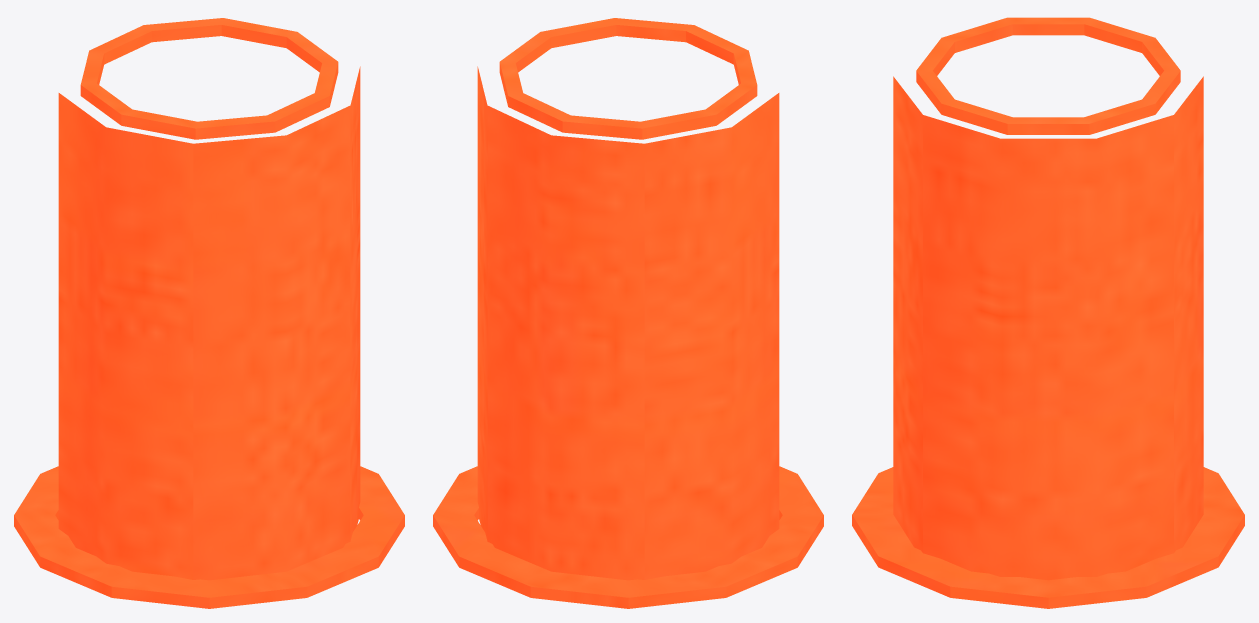
The model's file is fx_warp_e.glb.
3 views of the same model, side by side, from view 1: azimuth 30°, elevation 25°; view 2: azimuth 150°, elevation 25°; view 3: azimuth 270°, elevation 25° (orthographic).
Visible parts, largest first — view 1: fx_warp_e; view 2: fx_warp_e; view 3: fx_warp_e.
Part boxes in pixels (<box>): fx_warp_e: <box>14,18,404,608</box>; fx_warp_e: <box>433,18,823,608</box>; fx_warp_e: <box>852,17,1244,608</box>.
Size of the model in its own units: 1.9 by 2.43 by 1.9.
1 material, 1 textured.
